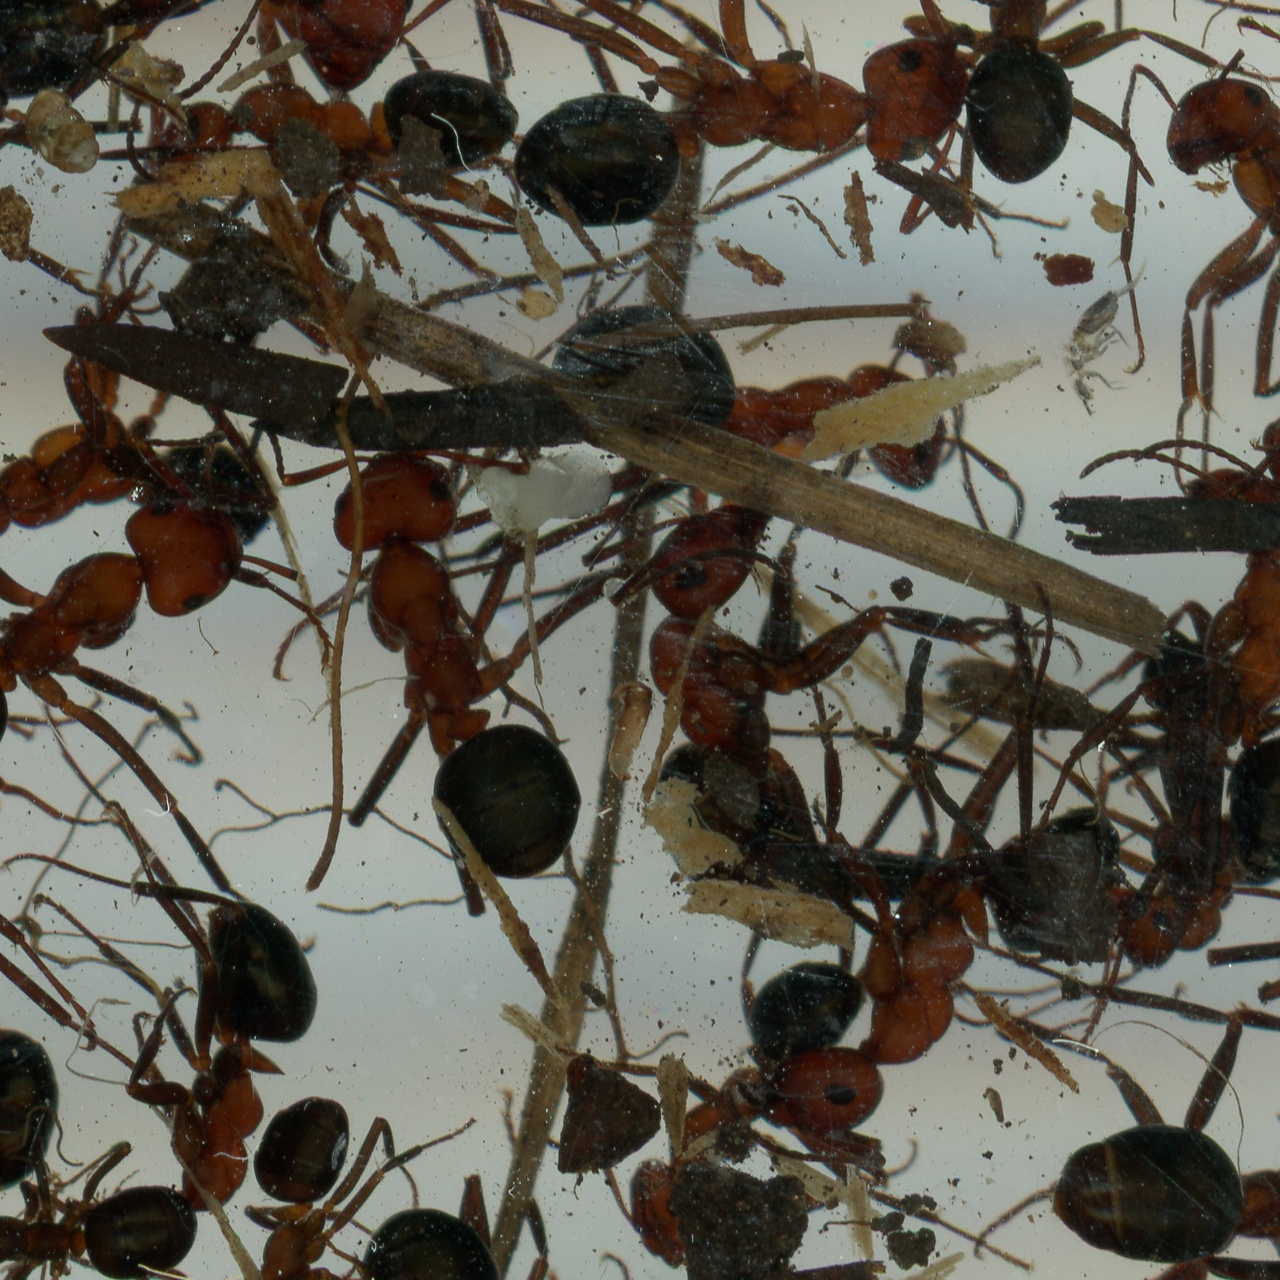arthropod: (246, 415, 654, 1046), (567, 478, 1013, 934), (386, 0, 1076, 257), (1049, 231, 1280, 908), (727, 784, 1124, 1145), (7, 842, 326, 1280), (529, 290, 1033, 545), (0, 483, 342, 836), (121, 56, 535, 285), (1073, 435, 1280, 890), (1129, 674, 1280, 1247), (0, 0, 220, 387), (0, 215, 191, 599), (175, 1062, 486, 1280), (1109, 43, 1280, 414), (294, 1105, 636, 1280), (1019, 1060, 1280, 1280), (945, 0, 1163, 200), (0, 0, 438, 89), (0, 930, 95, 1280), (0, 1130, 202, 1280), (1060, 248, 1149, 420), (5, 84, 113, 183)
